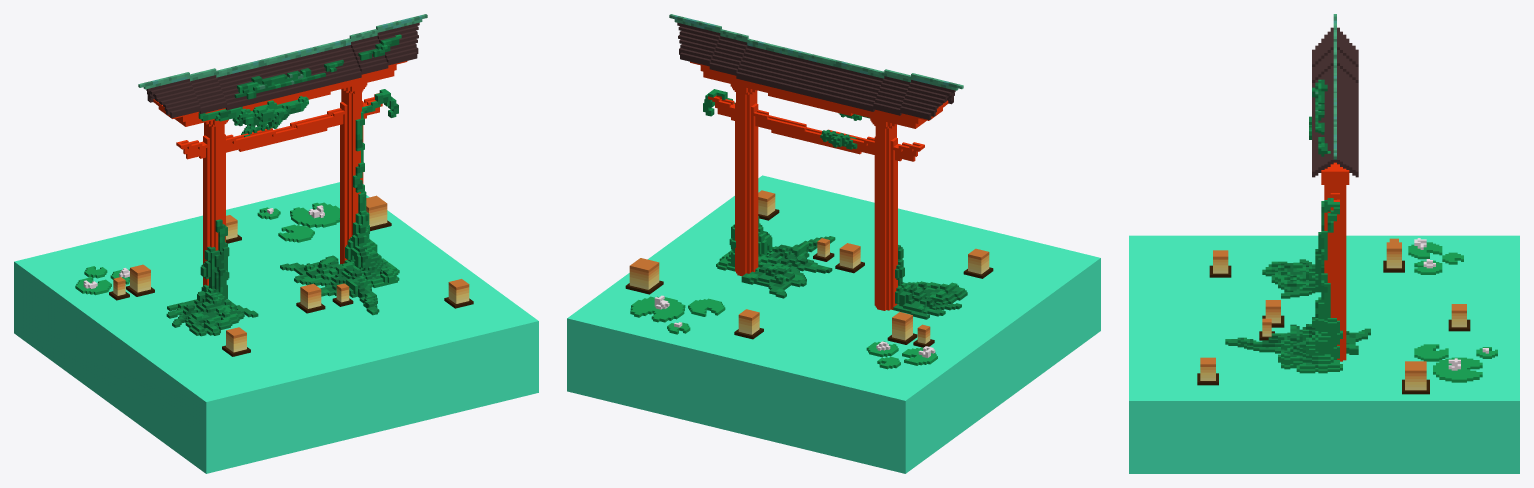
The model's file is japanese gate.obj.
3 renders of one model, left to right at view 1: azimuth 30°, elevation 25°; view 2: azimuth 150°, elevation 25°; view 3: azimuth 270°, elevation 25°, orthographic.
Size of the model in its own units: 126 by 111 by 126.
1 material, 1 textured.
